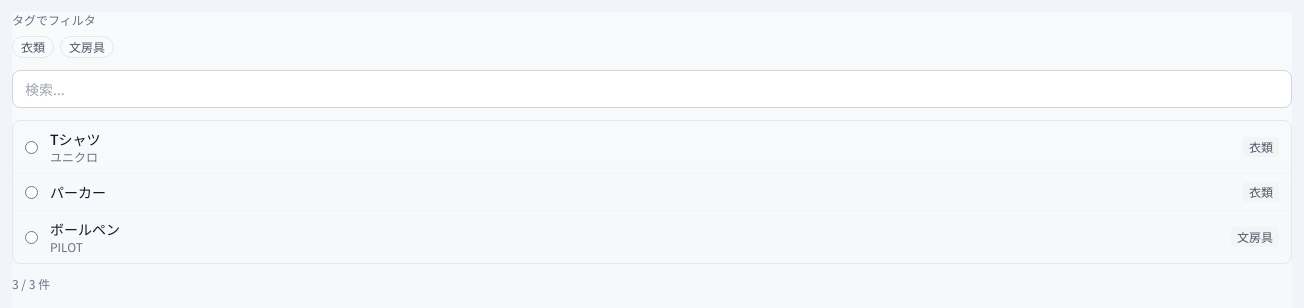
it: ItemTypeSelector › should filter by tag
The width and height of the screenshot is (1304, 308).
Click the button "衣類": x=33, y=47 x1=12 y1=36 x2=54 y2=58
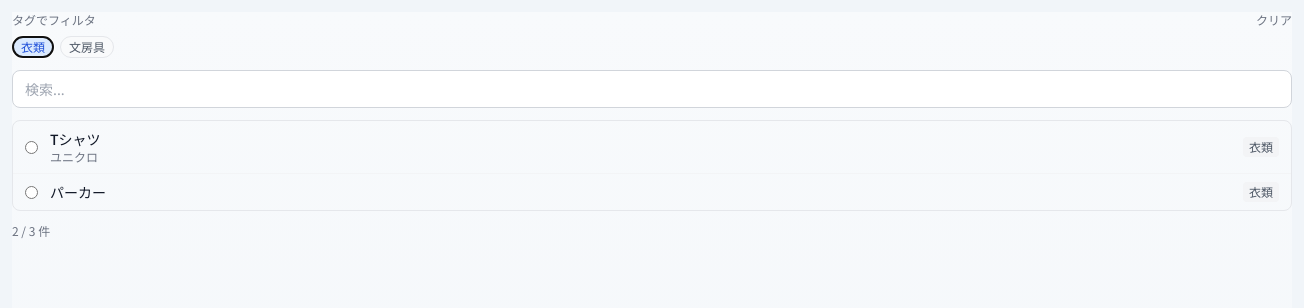
Check: the text "Tシャツ" is shown, box x1=50 y1=129 x2=101 y2=149
Check: the text "ボールペン" is gone
Check: the text "2 / 3 件" is shown, box x1=12 y1=222 x2=50 y2=239
